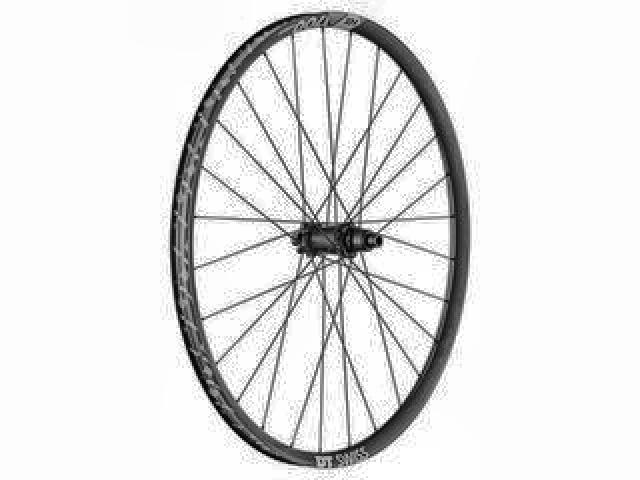wheel: (167, 6, 476, 471)
